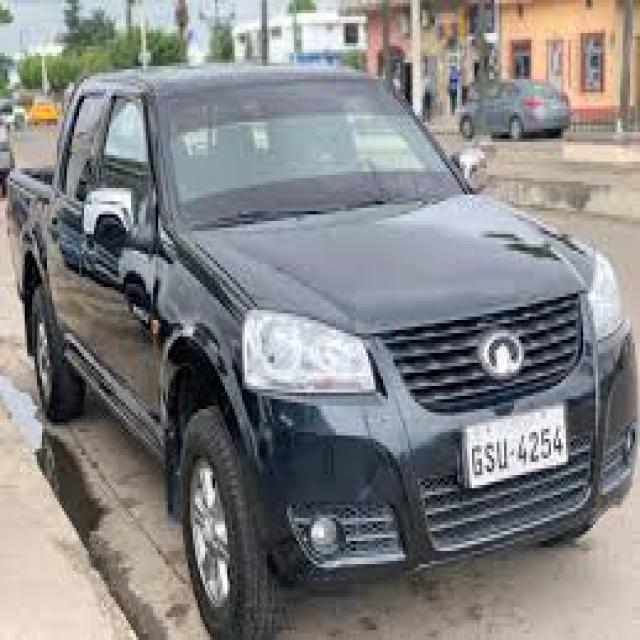CMT: (12, 50, 623, 607)
